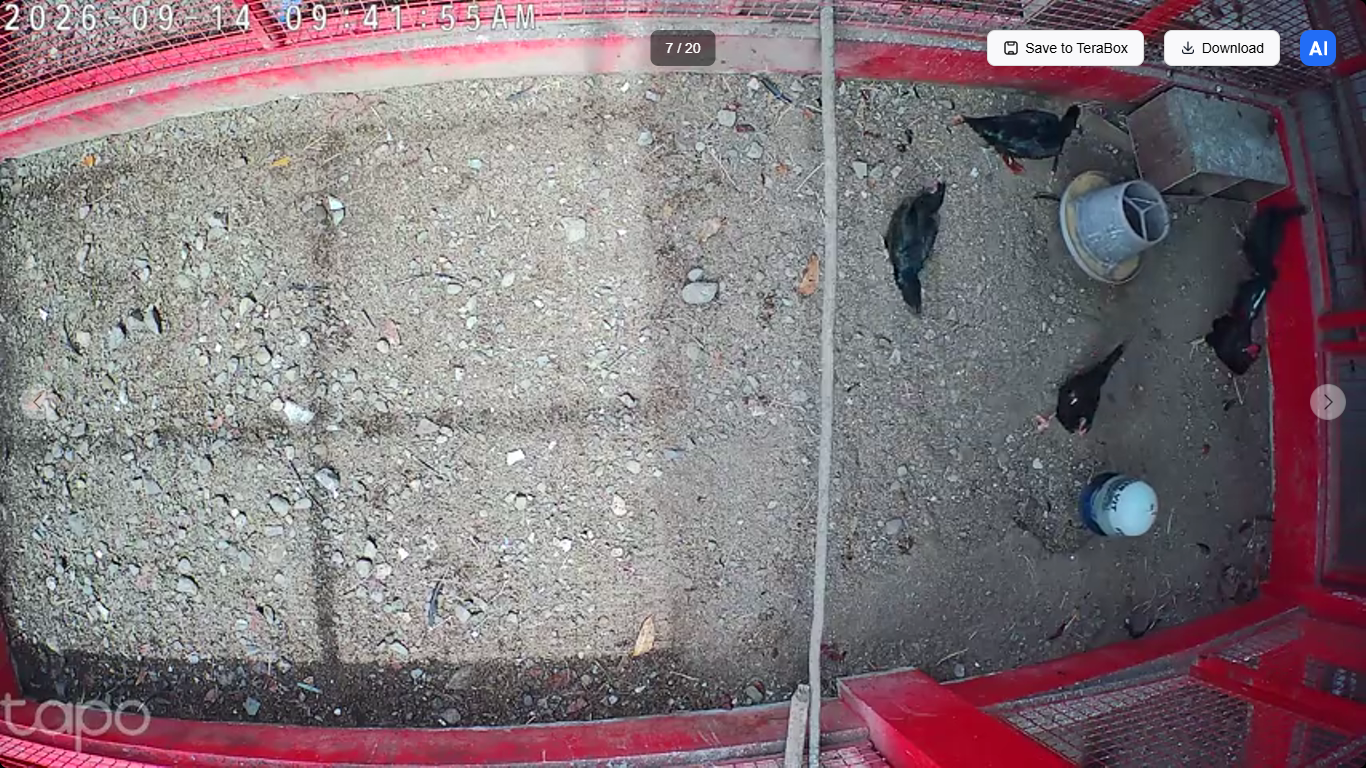Chicken: (874, 174, 952, 322), (1031, 339, 1132, 441), (957, 102, 1085, 166), (1226, 204, 1310, 283)
Drinker: (1077, 472, 1159, 540)
Feeder: (1060, 166, 1172, 286)
Rooster: (1186, 277, 1277, 389)
